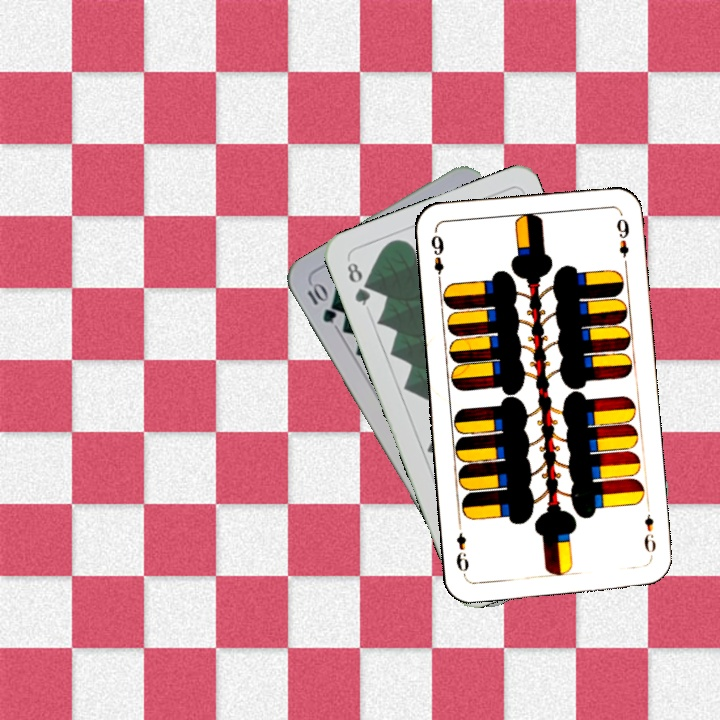E9: (426, 231, 447, 287), (639, 510, 659, 560)
G10: (303, 279, 339, 326)
G8: (343, 255, 373, 308)
